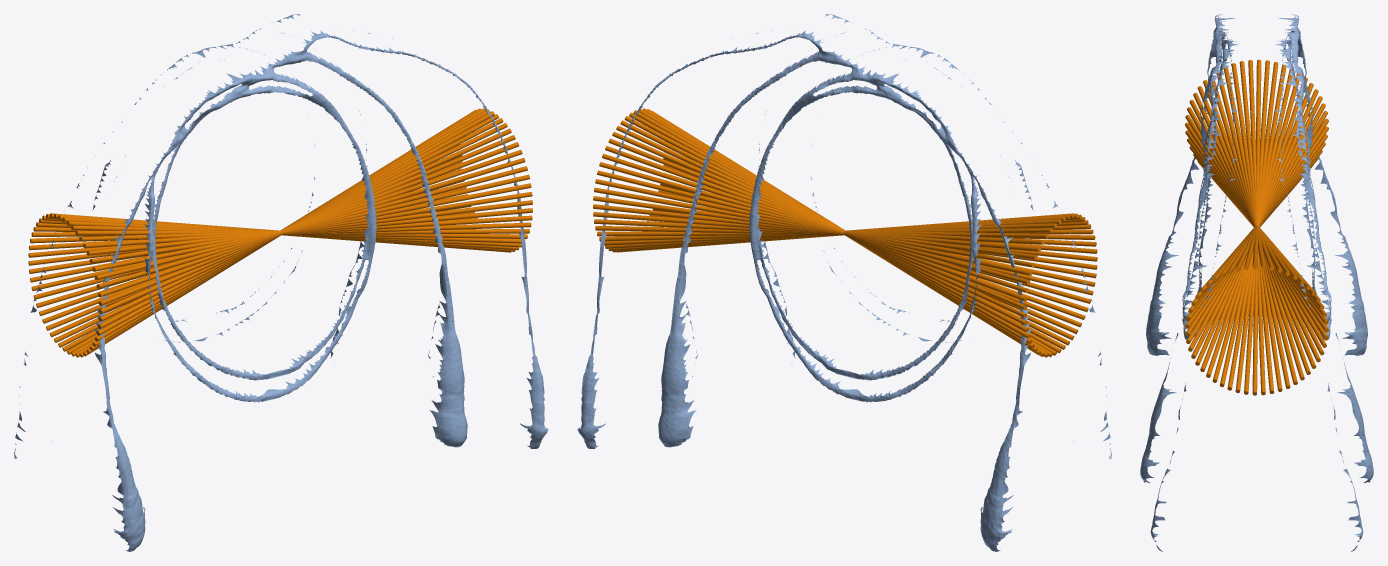
File: A60023190_6150-37-520-5464_DigitalTwin.glb
3 views of the same model, side by side, from view 1: azimuth 30°, elevation 25°; view 2: azimuth 150°, elevation 25°; view 3: azimuth 270°, elevation 25° (orthographic). The views are drawn at different scales.
Parts seen in each view (by area): view 1: world; view 2: world; view 3: world.
Part boxes in pixels (x1=…): world: x1=14, y1=14, x2=548, y2=551; world: x1=577, y1=14, x2=1111, y2=551; world: x1=1140, y1=14, x2=1373, y2=551.
Bounding box in the file's own units: 431 × 412 × 206.
